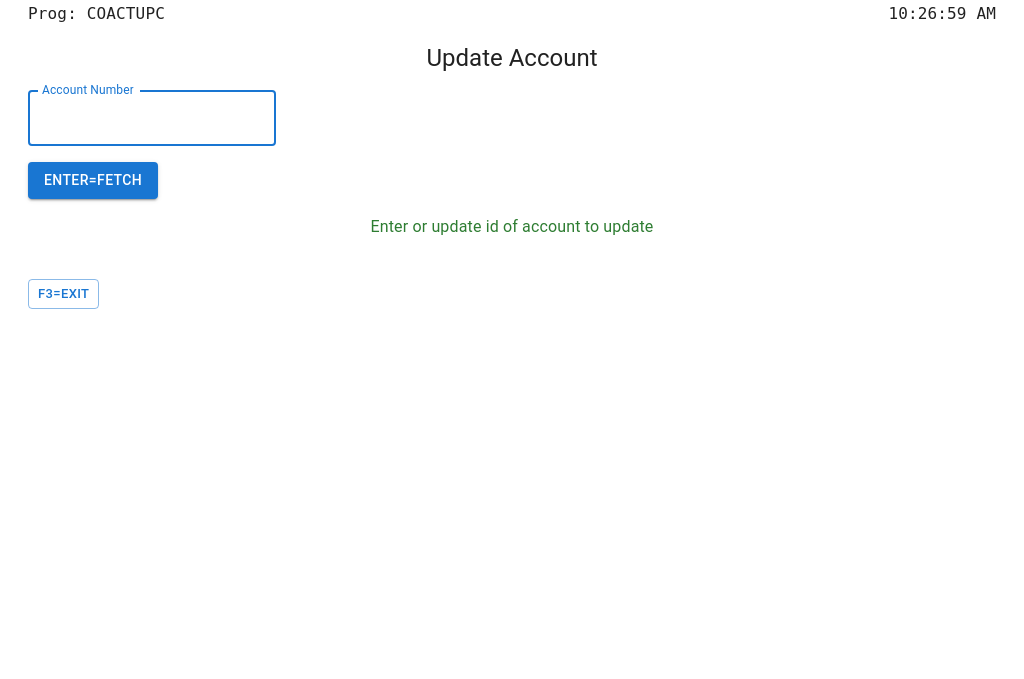
Test: CAUP account update › 2000 / 3201-3203 / 3300 / 3310 / 3320: fetch, edit, review protects fields, F5 saves the reviewed version
The image size is (1024, 679).
In the field labelled "Account Number": (152, 118) [28,90,276,146], type "00000000042"
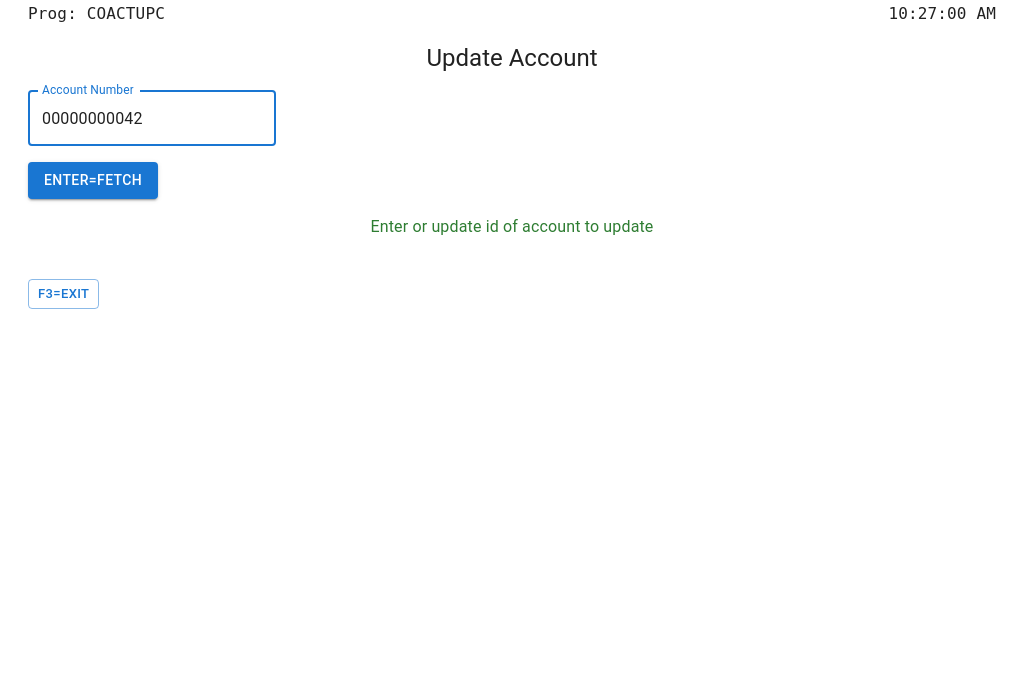
Press Enter in the field labelled "Account Number", box [28,90,276,146]
(page scrolled)
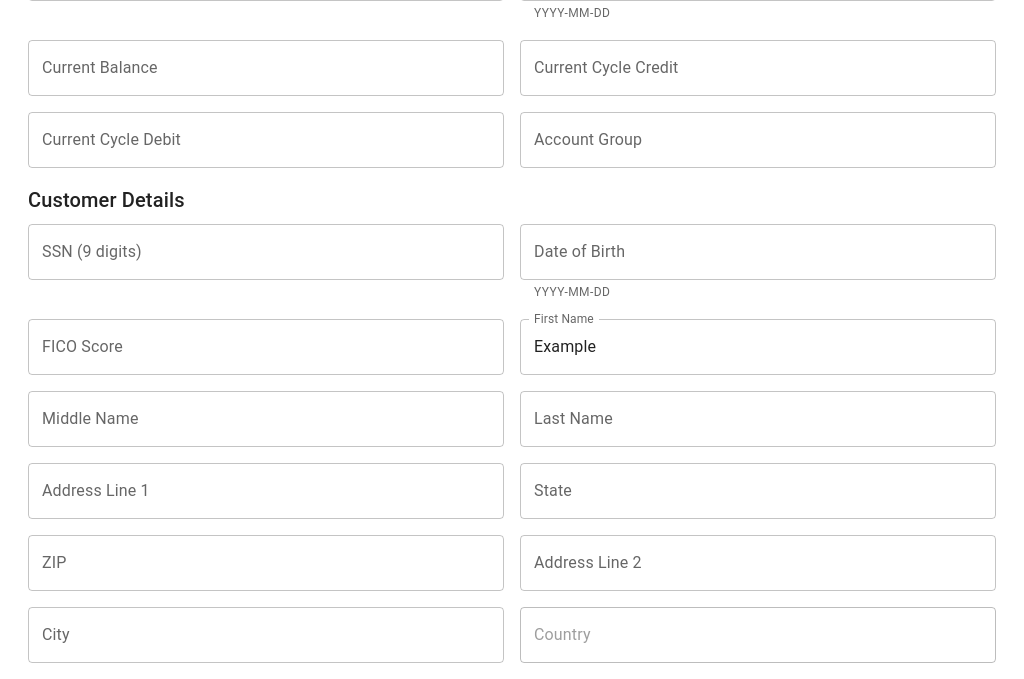
Expected: the field labelled "First Name" is shown
Expected: the field labelled "First Name" holds "Example"
Expected: the field labelled "FICO Score" is shown, [28,319,504,375]
Press F5 in the field labelled "First Name", box [520,319,996,375]
Replace the text in the field labelled "First Name" with "Updated": (758, 347) [520,319,996,375]
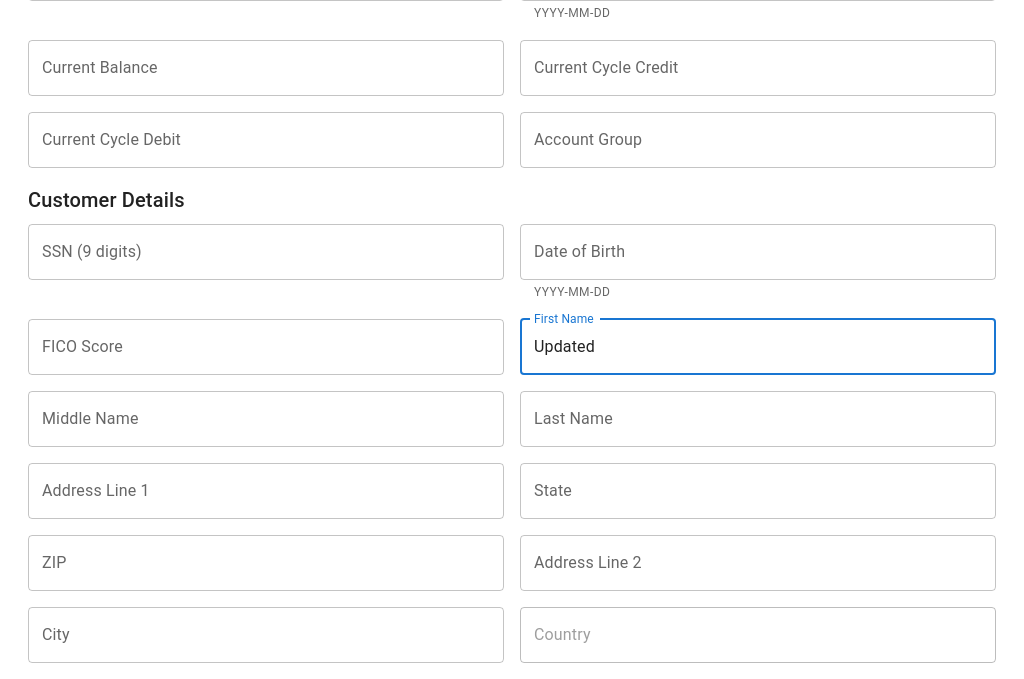
Press Enter in the field labelled "First Name", box [520,319,996,375]
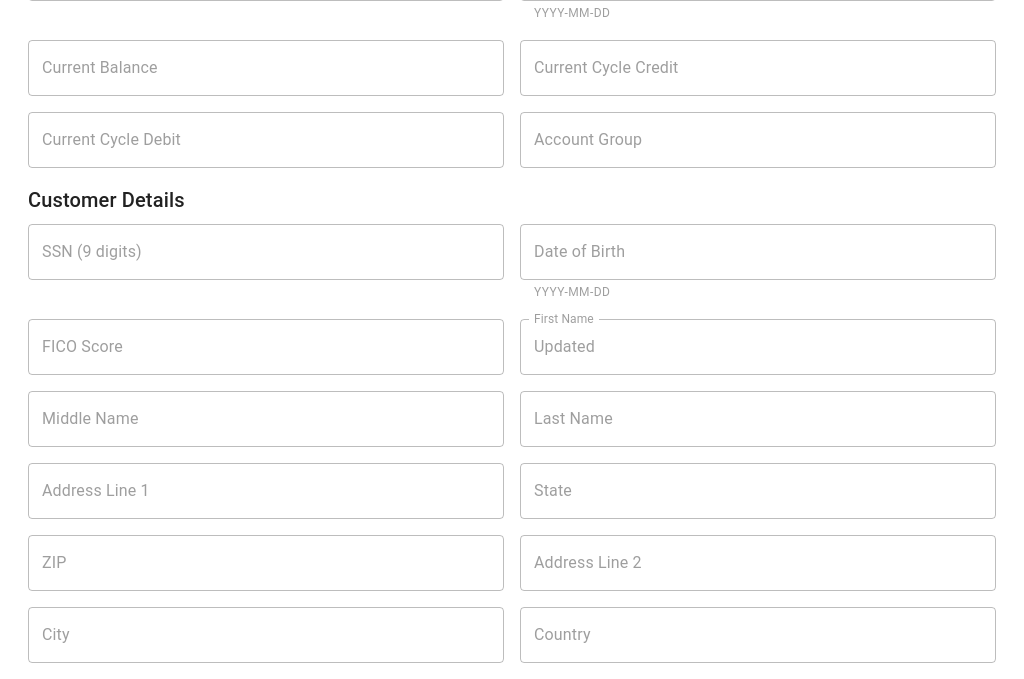
Expected: the field labelled "First Name" is disabled, [520,319,996,375]
Press Enter
Press F5
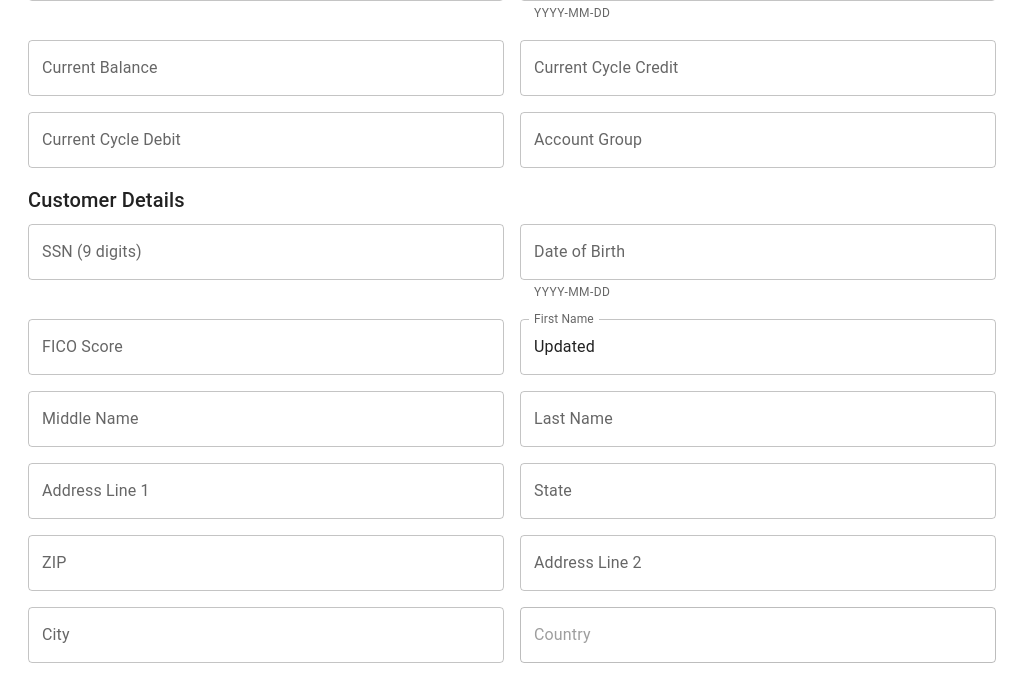
Expected: the field labelled "First Name" is enabled, [520,319,996,375]
